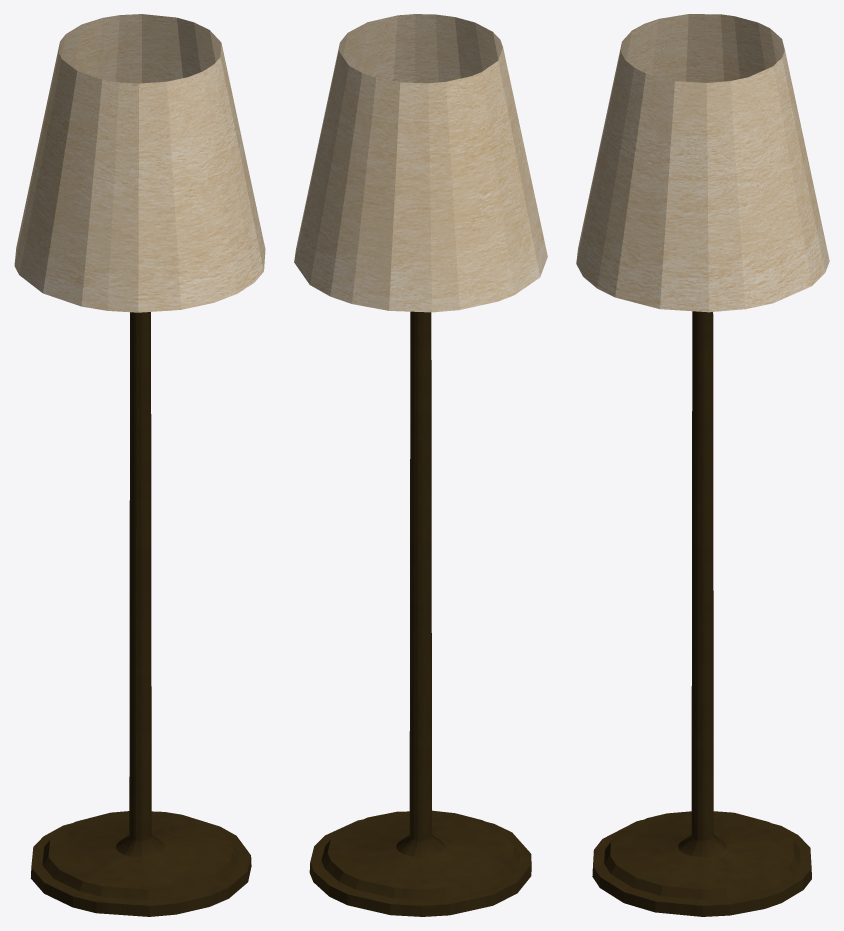
Rendered from xizhentsan_LAMP.fbx.
3 renders of one model, left to right at view 1: azimuth 30°, elevation 25°; view 2: azimuth 150°, elevation 25°; view 3: azimuth 270°, elevation 25°, orthographic.
Parts seen in each view (by area): view 1: LAMP; view 2: LAMP; view 3: LAMP.
Boxes of the visible parts, x1,y1,x2,y2 form: LAMP: [14, 14, 265, 916]; LAMP: [294, 14, 547, 916]; LAMP: [576, 14, 829, 916].
Size of the model in its own units: 35.17 by 126 by 35.35.
1 material, 1 textured.
